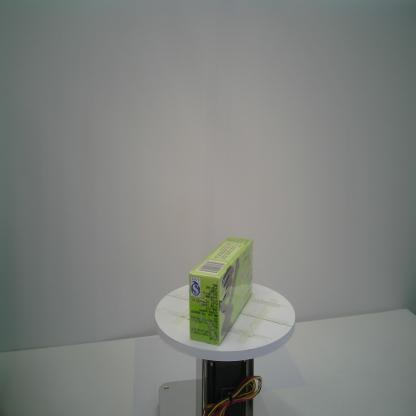Instant Drink: (188, 235, 254, 347)
